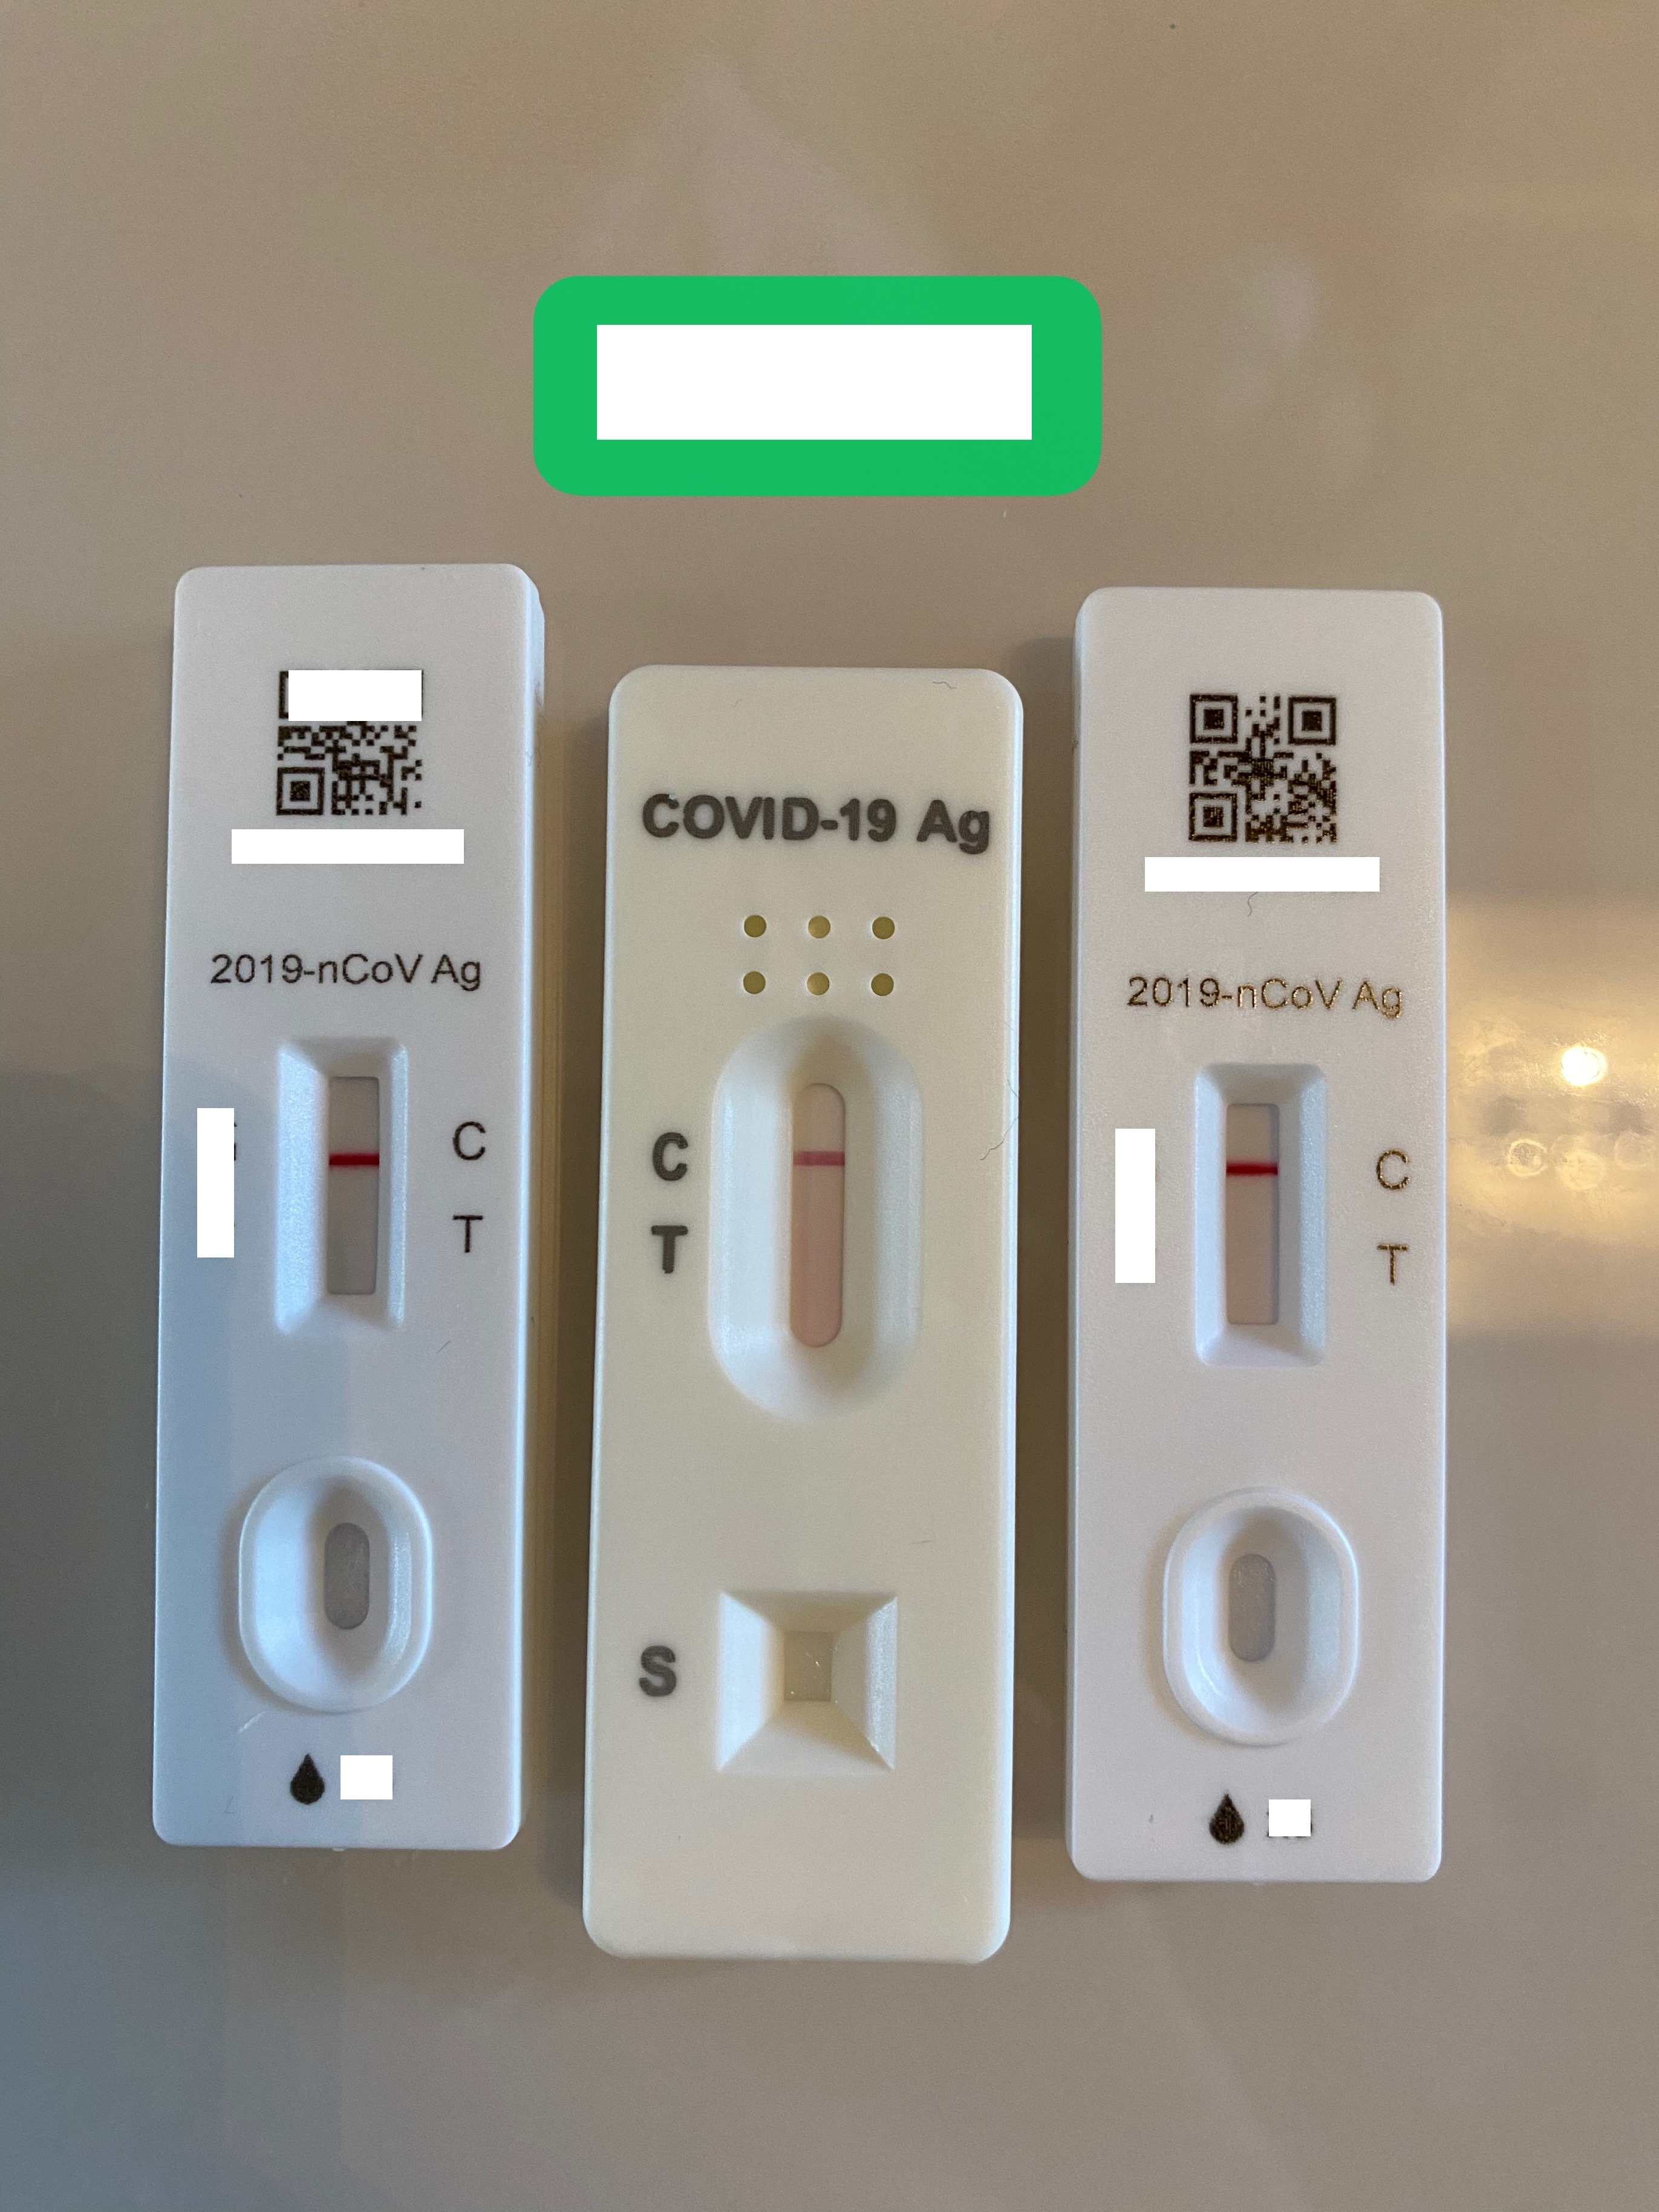negative: (714, 1027, 917, 1421), (1194, 1055, 1324, 1374), (284, 1028, 413, 1330), (721, 1588, 896, 1783)
